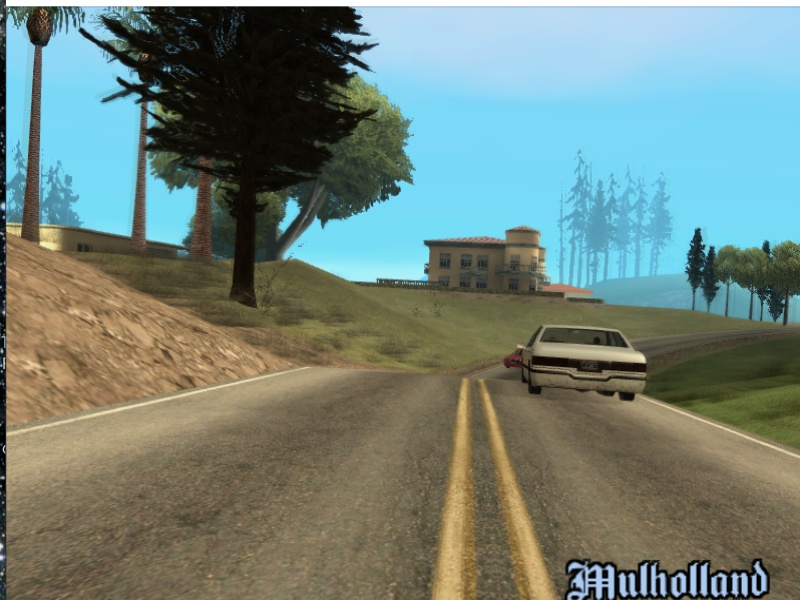tree: (230, 157, 267, 312)
vehicle: (518, 325, 647, 406)
